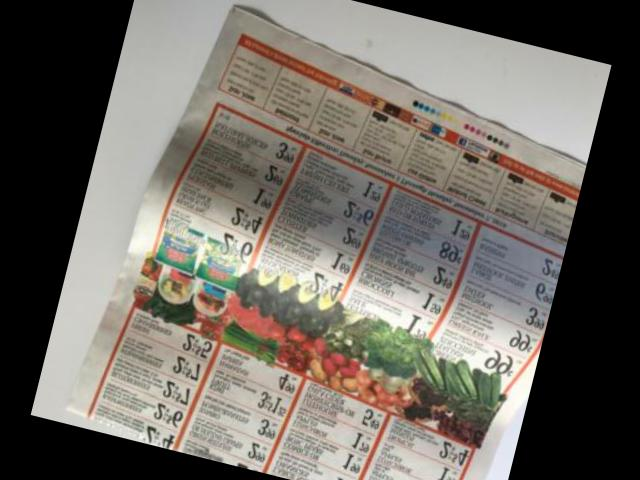cardboard paper: (70, 12, 585, 480)
